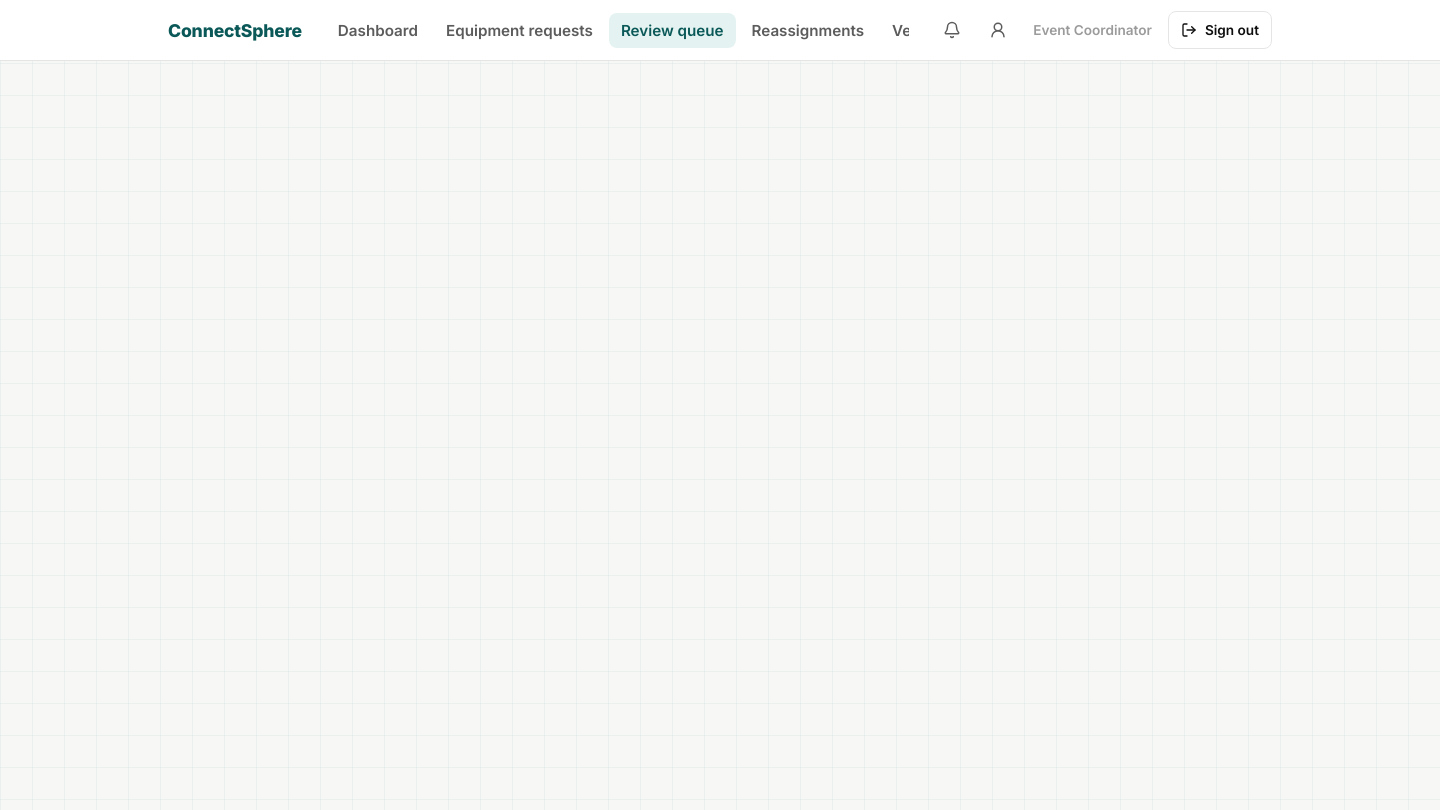
Test: keeps the user on the page and explains when sign out fails
Click the button "Sign out": {"x": 1220, "y": 30} [1168,11,1272,49]
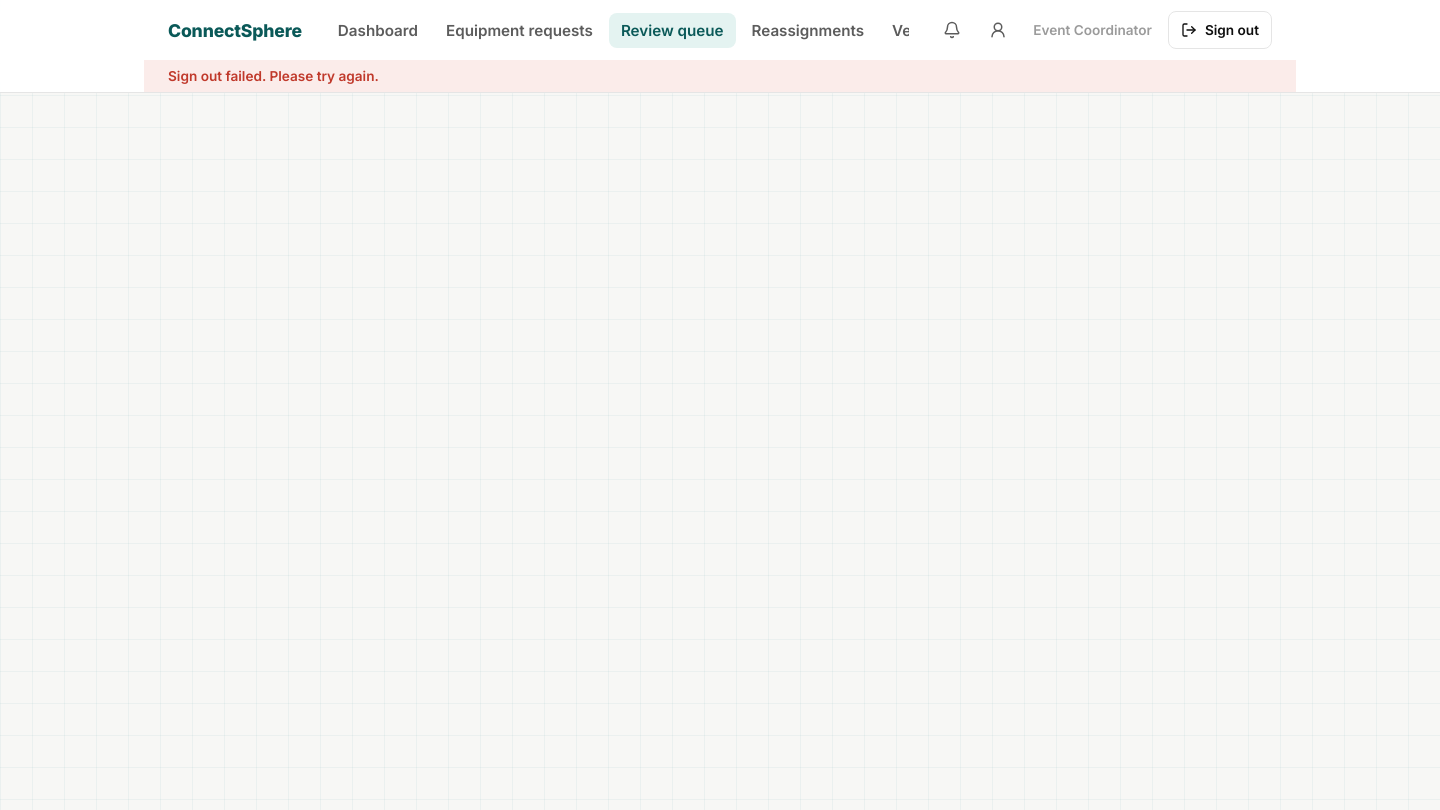
Expected: the message reads "Sign out failed. Please try again.", [168,68,379,84]
